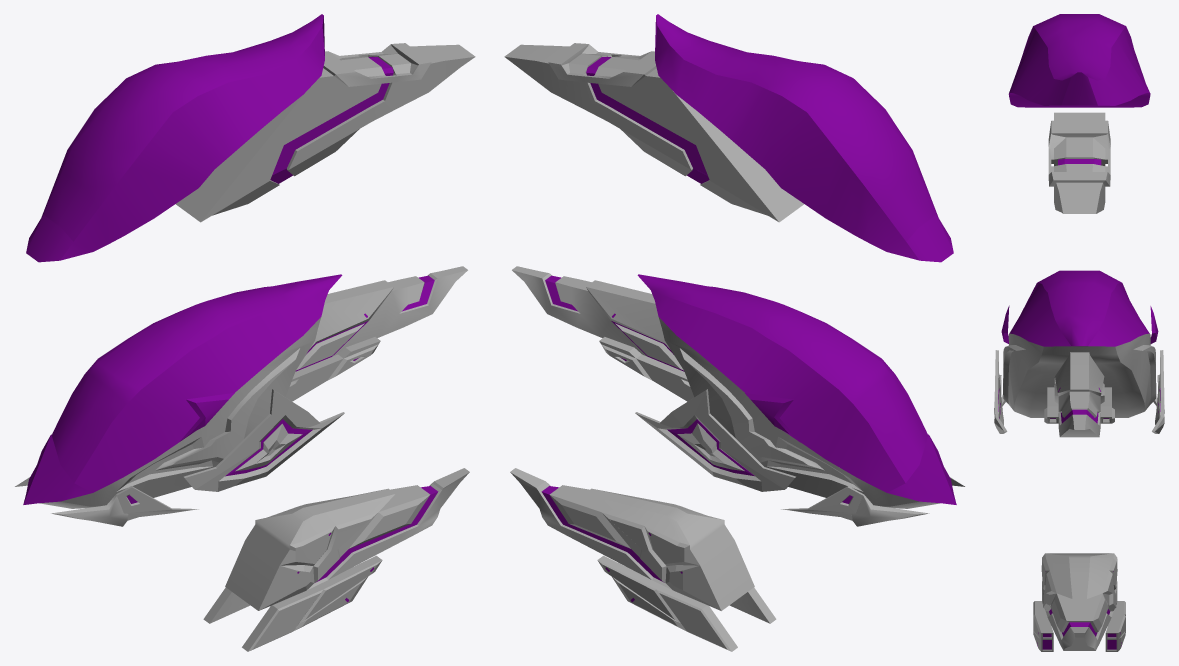
File: PlayerRgb.fbx
The picture shows the model from 3 angles, left to right: view 1: azimuth 30°, elevation 25°; view 2: azimuth 150°, elevation 25°; view 3: azimuth 270°, elevation 25°; orthographic projection.
Visible parts, largest first — view 1: Cabina_A, Cabina_B, Cola_1, Cola_3, Cuerpo_Base, Cola_2, Cola_3a, Medio_1, Cola_2a, Frente_2a, Frente_2, Medio_2a (+1 smaller); view 2: Cabina_A, Cabina_B, Cola_1, Cola_3, Cuerpo_Base, Cola_2, Cola_3a, Medio_1, Cola_2a, Frente_2a, Frente_2, Medio_2a (+1 smaller); view 3: Cabina_A, Cabina_B, Cuerpo_Base, Cola_3, Cola_1, Cola_2, Cola_3a, Medio_1, Cola_2a.
Part boxes in pixels (x1,y1,x2,y2): Cabina_A: (26, 14, 324, 262); Cabina_B: (23, 274, 342, 504); Cola_1: (176, 43, 475, 222); Cola_3: (225, 468, 469, 610); Cuerpo_Base: (40, 316, 321, 508); Cola_2: (295, 266, 467, 371); Cola_3a: (203, 555, 382, 651); Medio_1: (195, 389, 344, 491); Cola_2a: (285, 337, 380, 401); Frente_2a: (116, 486, 198, 520); Frente_2: (15, 477, 128, 526); Medio_2a: (235, 423, 302, 471); Cabina_A: (655, 14, 953, 262); Cabina_B: (637, 274, 956, 504); Cola_1: (504, 43, 803, 222); Cola_3: (510, 468, 754, 610); Cuerpo_Base: (658, 317, 939, 508); Cola_2: (512, 266, 684, 371); Cola_3a: (597, 555, 776, 651); Medio_1: (635, 389, 784, 491); Cola_2a: (599, 337, 694, 401); Frente_2a: (781, 486, 863, 520); Frente_2: (851, 477, 964, 526); Medio_2a: (677, 423, 744, 470); Cabina_A: (1008, 14, 1150, 107); Cabina_B: (1001, 270, 1158, 346); Cuerpo_Base: (1003, 333, 1156, 417); Cola_3: (1041, 553, 1117, 650); Cola_1: (1048, 112, 1110, 213); Cola_2: (1054, 352, 1104, 437); Cola_3a: (1033, 601, 1125, 651); Medio_1: (994, 350, 1164, 433); Cola_2a: (1044, 387, 1114, 423).
Size of the model in its own units: 5.08 by 6.53 by 1.69.
